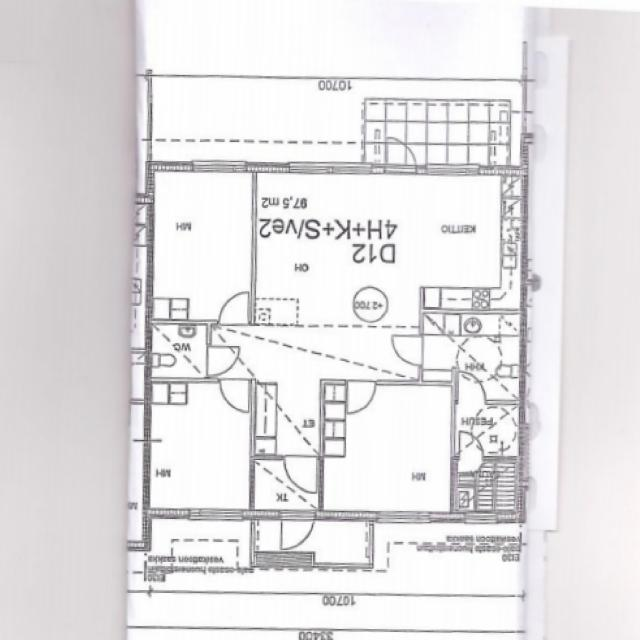door: (281, 510, 314, 555), (284, 455, 316, 493), (386, 135, 416, 175), (218, 289, 248, 326), (388, 336, 422, 366), (347, 379, 376, 414), (206, 347, 240, 376), (220, 379, 248, 414), (457, 371, 485, 405), (460, 432, 483, 461)
